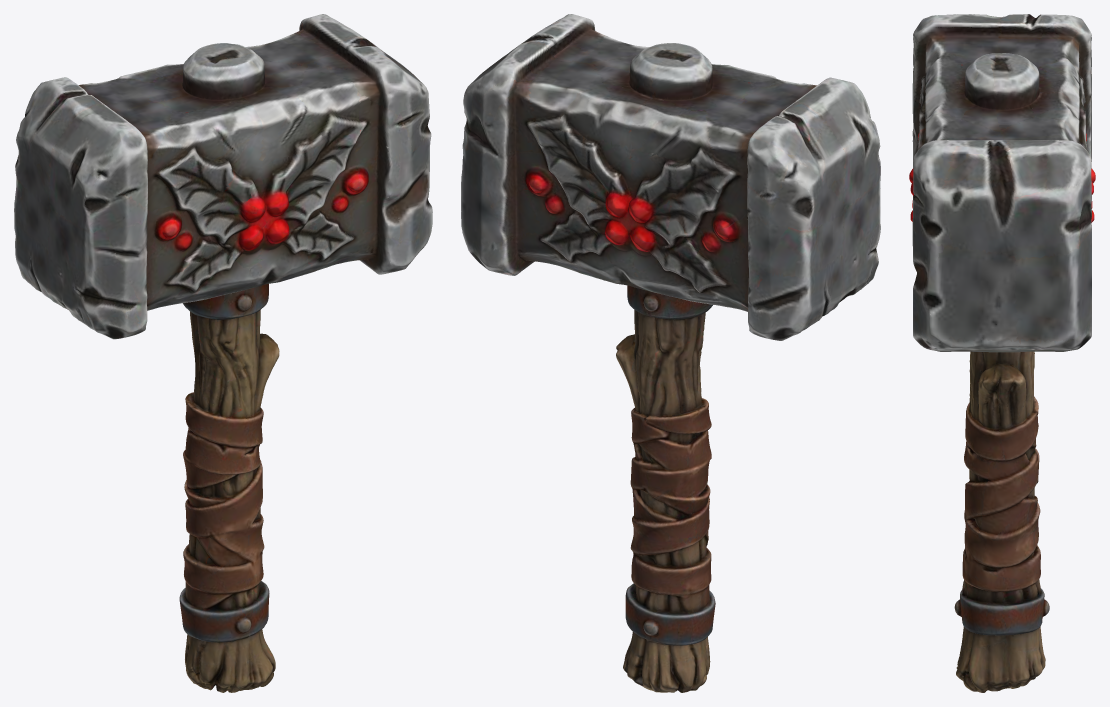
The model's file is PF_Hammer1.glb.
3 renders of one model, left to right at view 1: azimuth 30°, elevation 25°; view 2: azimuth 150°, elevation 25°; view 3: azimuth 270°, elevation 25°, orthographic. The views are drawn at different scales.
Size of the model in its own units: 1.11 by 1.9 by 0.5242.
1 material, 1 textured.
